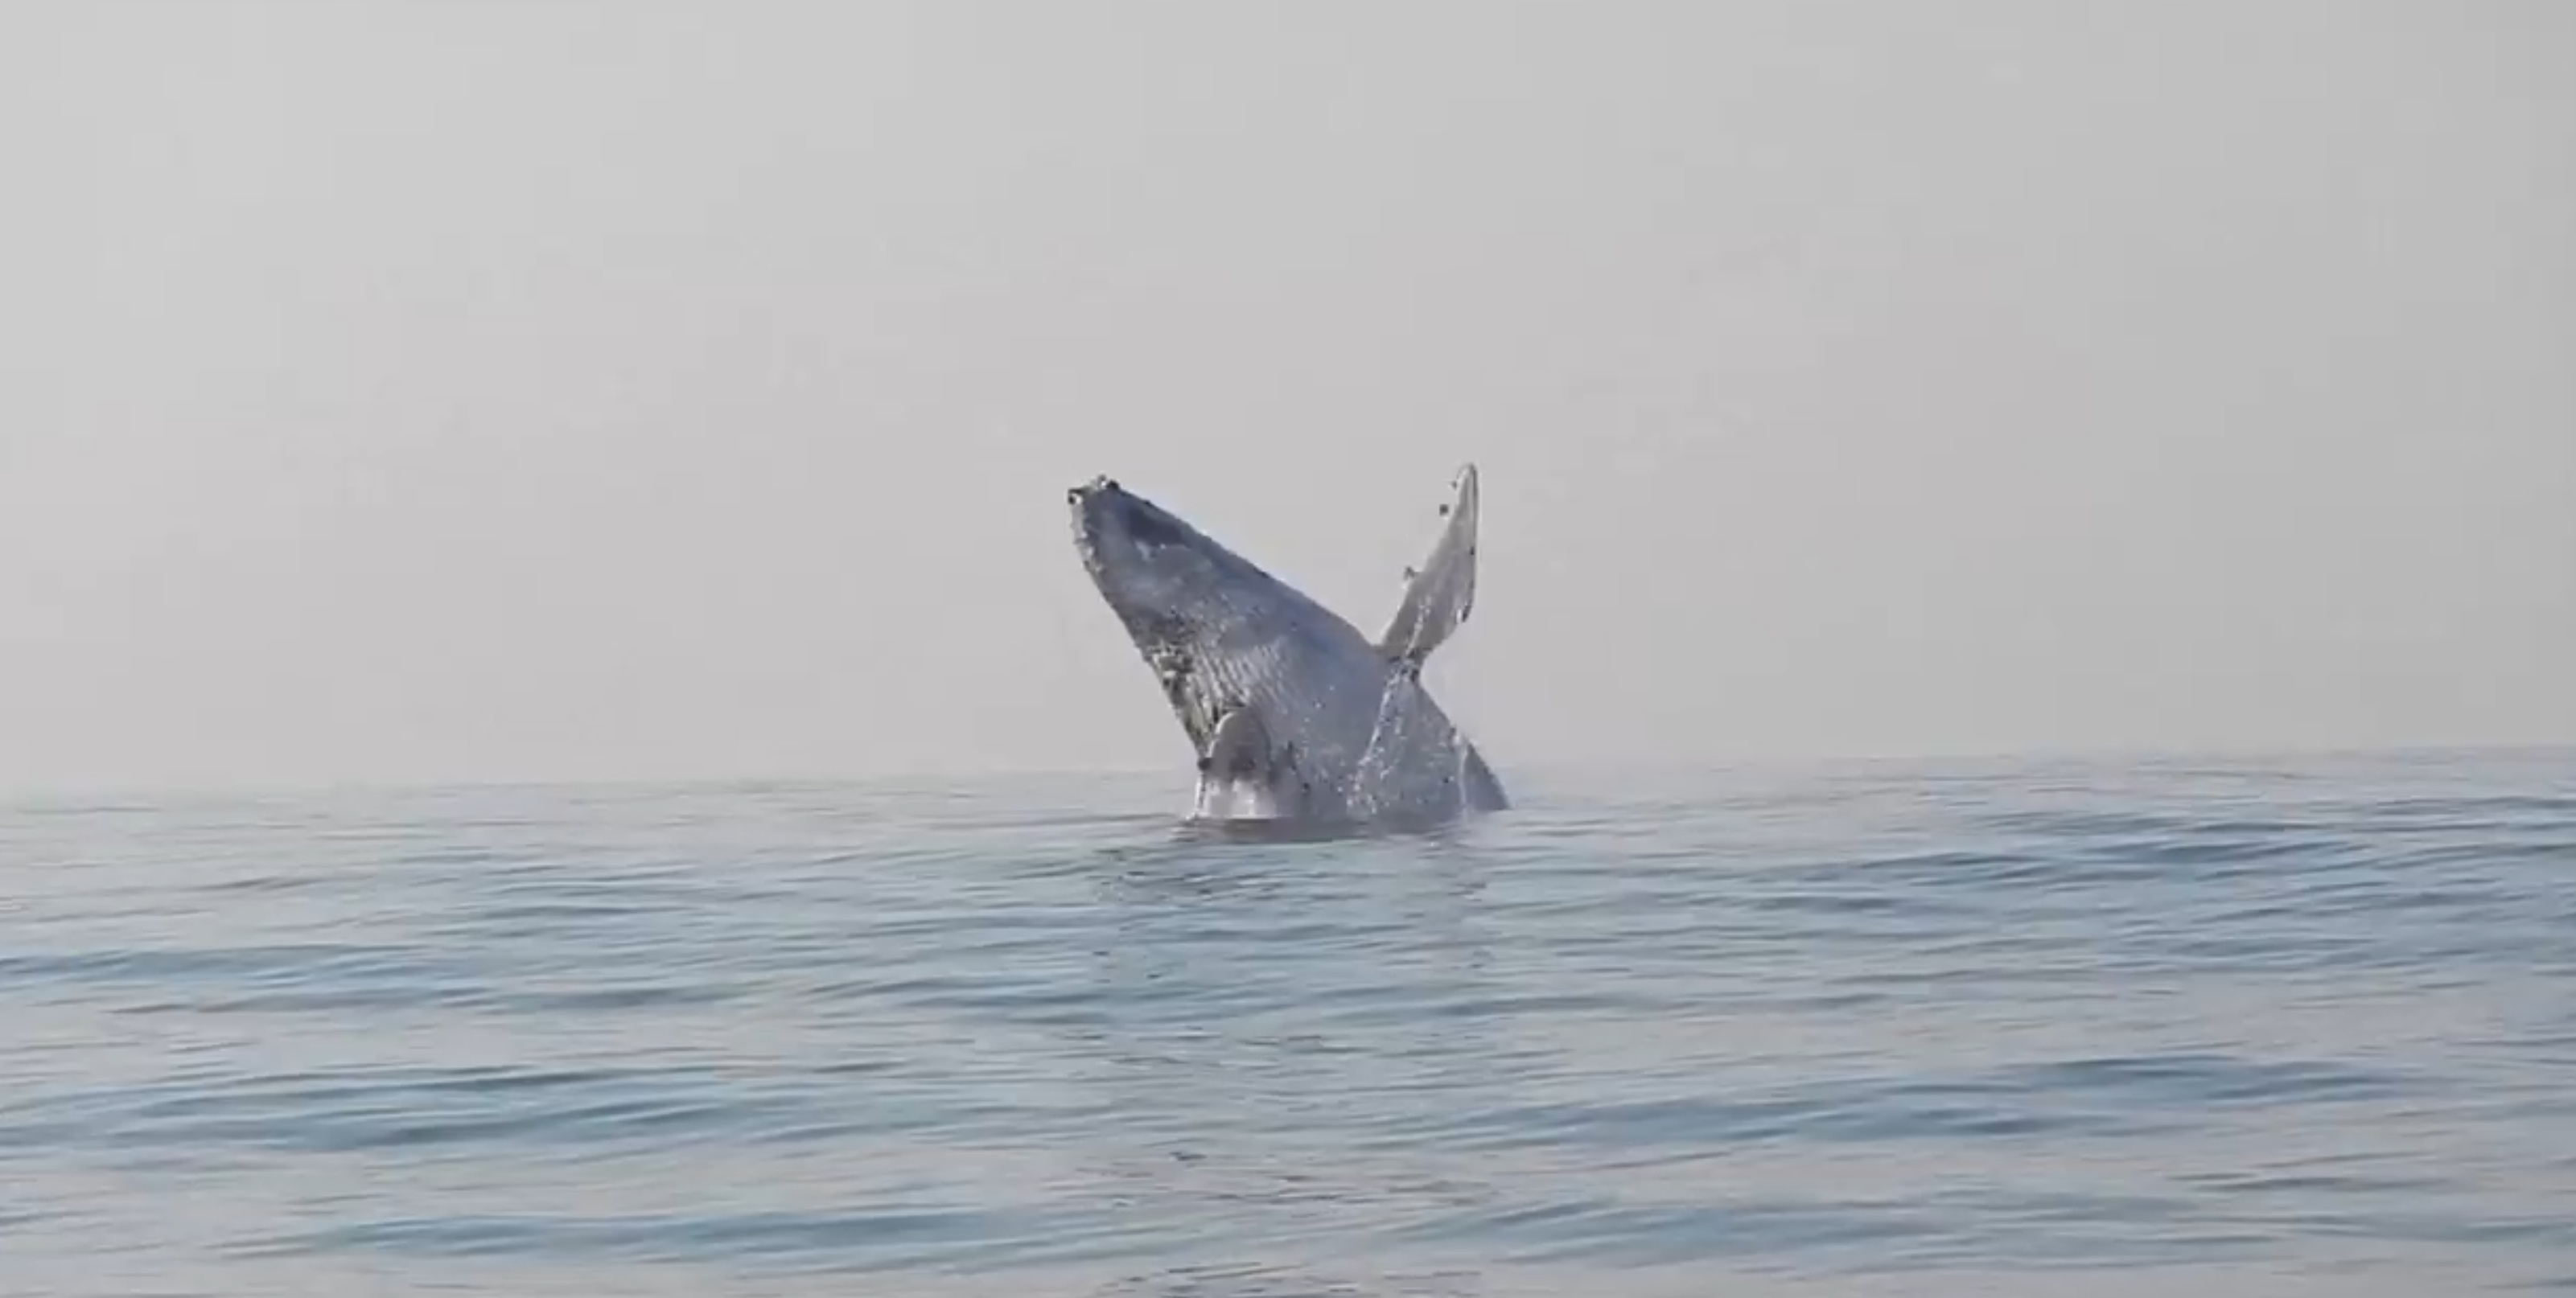humpback: (1065, 469, 1505, 818)
